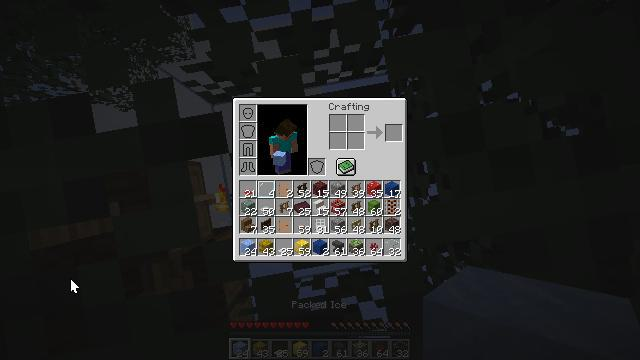cursor: (278, 70, 294, 80)
